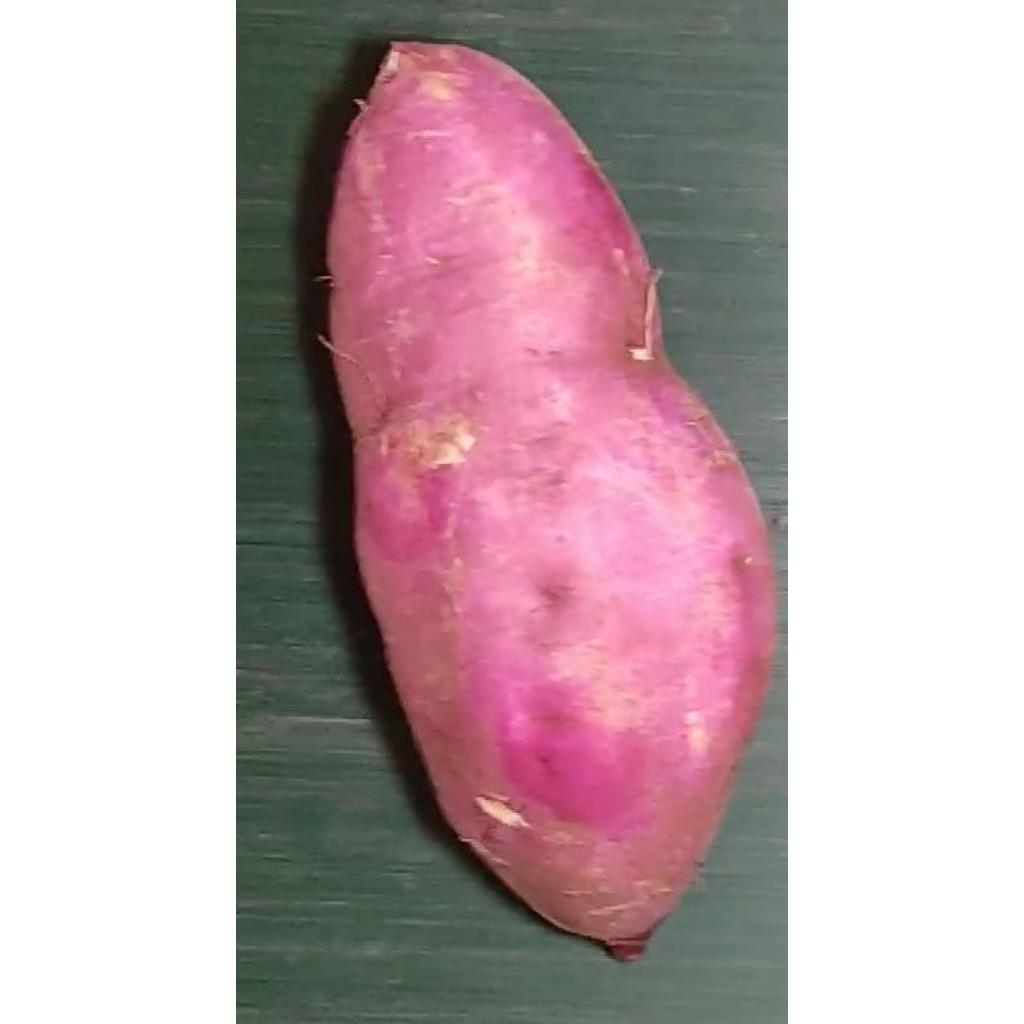Sweet Potato: (317, 39, 778, 964)
